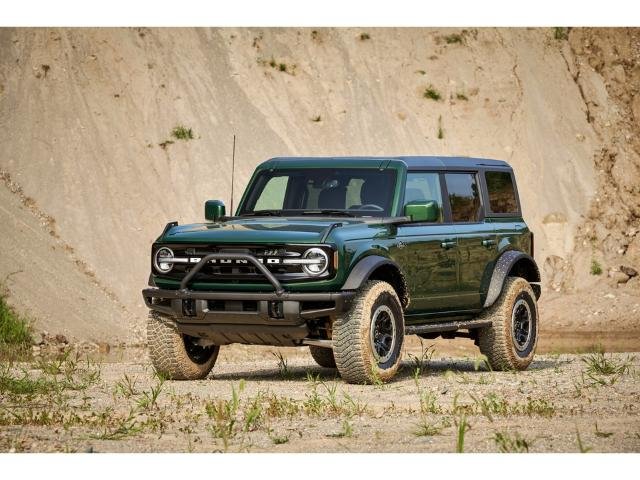ford: (140, 135, 542, 383)
